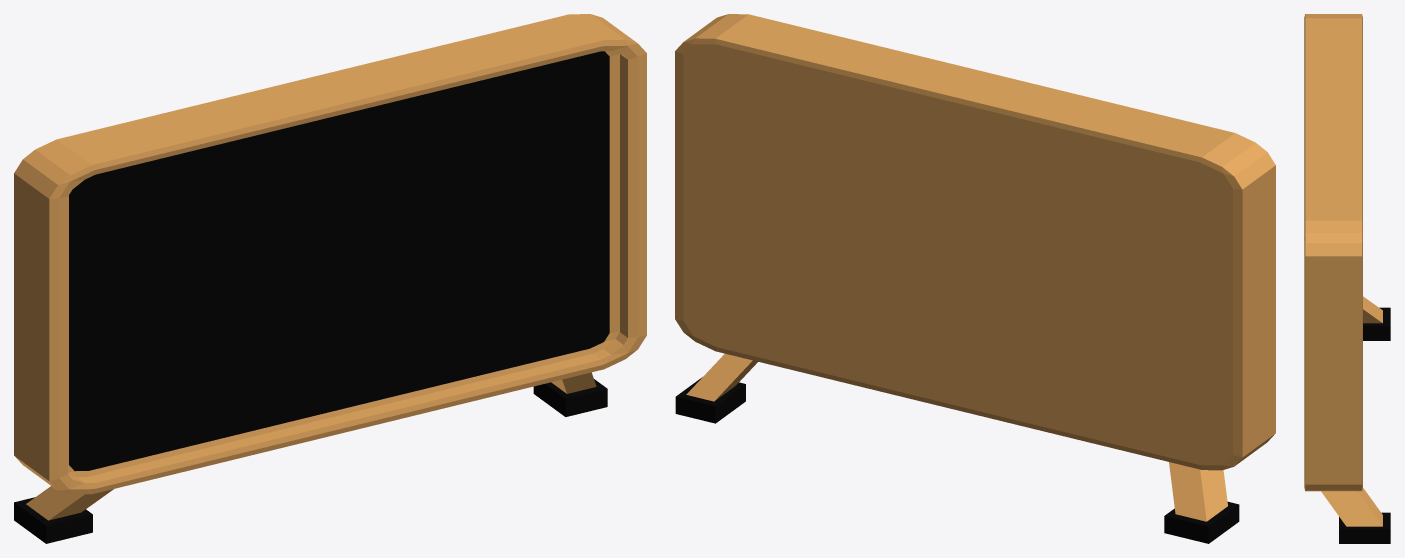
File: Instruction.fbx
The picture shows the model from 3 angles, left to right: view 1: azimuth 30°, elevation 25°; view 2: azimuth 150°, elevation 25°; view 3: azimuth 270°, elevation 25°; orthographic projection. The views are drawn at different scales.
Visible parts, largest first — view 1: Cube; view 2: Cube; view 3: Cube.
Part boxes in pixels (box(x1,y1,x2,y2)): Cube: box(14, 14, 646, 543); Cube: box(675, 14, 1275, 543); Cube: box(1304, 14, 1390, 543).
Size of the model in its own units: 380 by 236 by 58.89.
